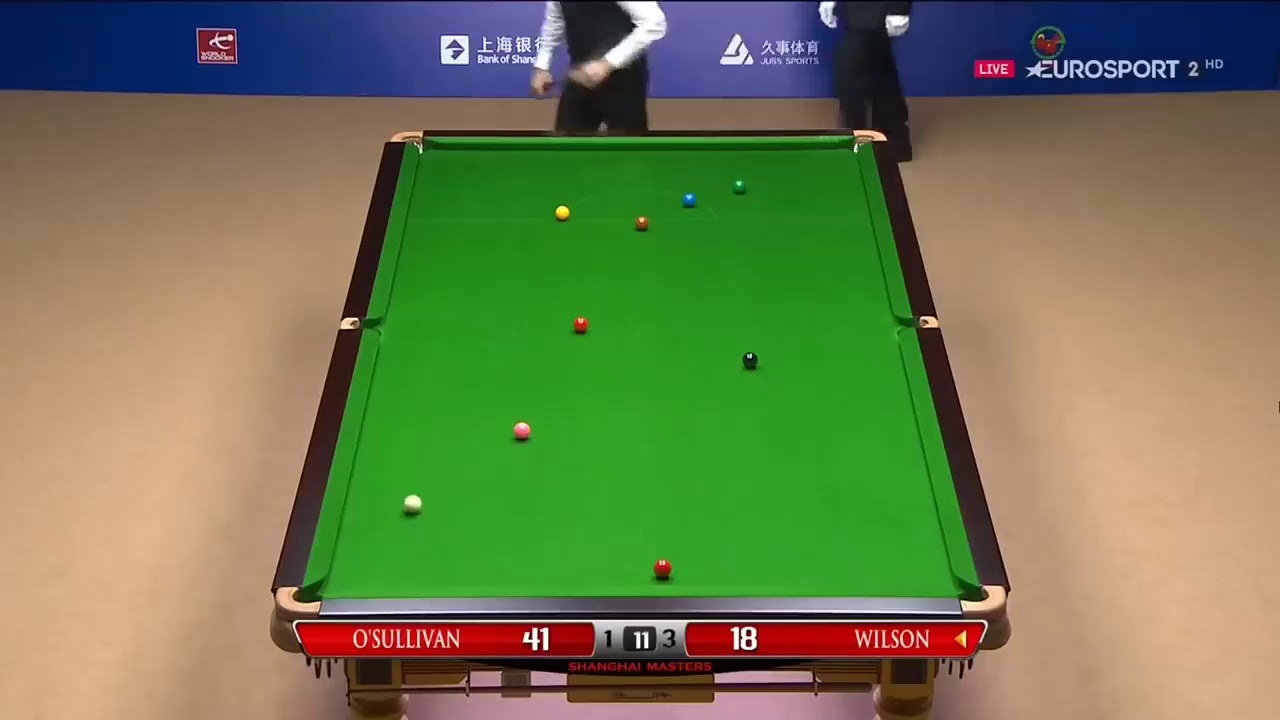black: (743, 351, 758, 367)
blue: (680, 193, 696, 207)
brown: (634, 216, 647, 230)
green: (731, 178, 745, 193)
pink: (513, 422, 530, 439)
red: (652, 557, 670, 577), (573, 317, 588, 331)
white: (403, 495, 422, 513)
yellow: (555, 205, 571, 220)
